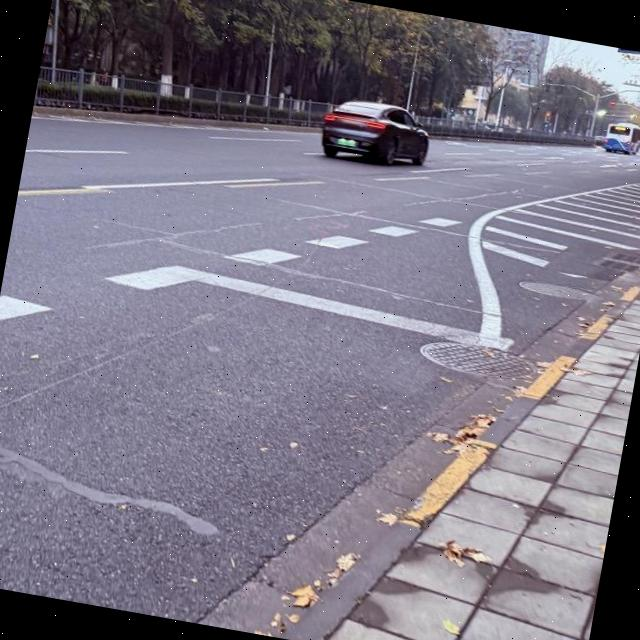curb: (276, 277, 640, 640), (31, 106, 265, 130), (268, 124, 312, 132)
